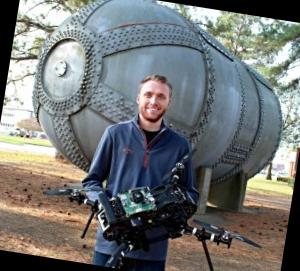drone: (27, 121, 281, 271)
